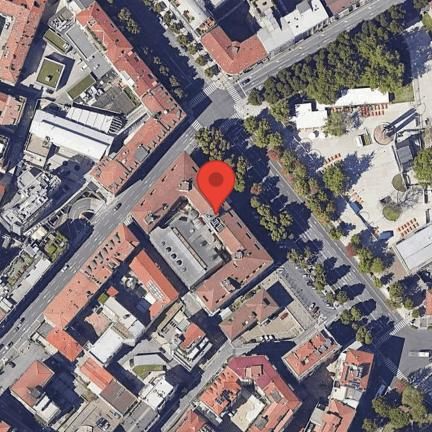area_open: (262, 6, 430, 252), (20, 0, 149, 151), (150, 202, 234, 294), (41, 351, 122, 432), (49, 147, 113, 245), (369, 323, 432, 394), (0, 317, 53, 397), (263, 271, 326, 331), (231, 309, 303, 356), (377, 244, 432, 299), (200, 0, 259, 43), (220, 382, 268, 432), (115, 267, 154, 326), (69, 301, 110, 345), (303, 352, 343, 396), (0, 233, 21, 273)
built: (130, 150, 274, 314), (77, 2, 187, 193), (169, 0, 378, 76), (41, 224, 140, 330), (200, 355, 303, 432), (304, 347, 374, 432), (0, 222, 53, 322), (84, 287, 146, 370), (30, 110, 115, 160), (0, 0, 46, 85), (0, 170, 61, 234), (155, 309, 214, 374), (77, 355, 137, 418), (295, 90, 387, 129), (129, 249, 178, 322), (221, 287, 278, 343), (282, 326, 339, 381), (11, 360, 59, 424), (137, 372, 180, 415), (67, 106, 123, 137), (396, 226, 432, 273), (44, 327, 83, 362), (171, 408, 218, 432), (0, 93, 25, 124), (25, 134, 52, 158), (135, 354, 169, 367), (0, 136, 11, 173), (427, 290, 432, 317), (1, 420, 9, 432)
vegetation_high: (244, 0, 432, 132), (360, 374, 432, 432)
vegetation_low: (190, 124, 385, 349), (238, 114, 427, 329), (99, 0, 191, 105), (138, 0, 222, 83), (33, 228, 69, 262)
